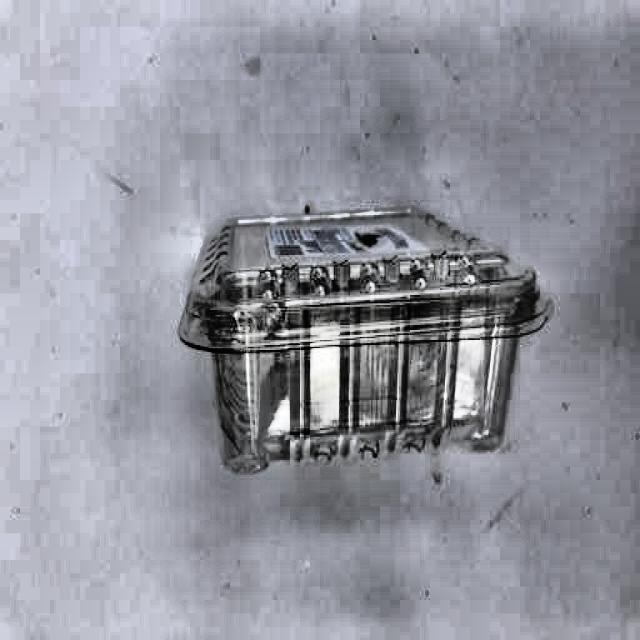plastic: (192, 204, 546, 468)
